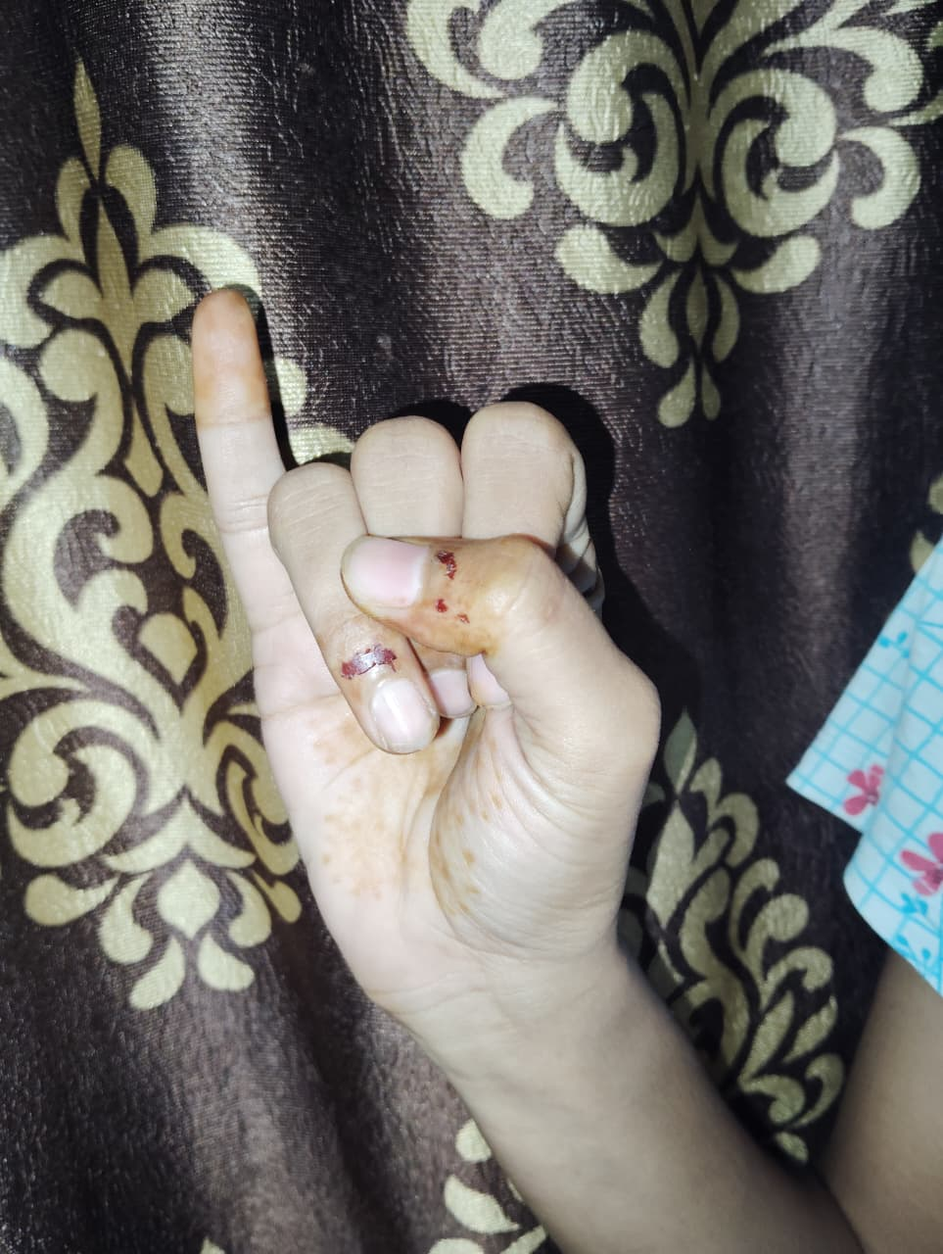I: (192, 287, 659, 970)
